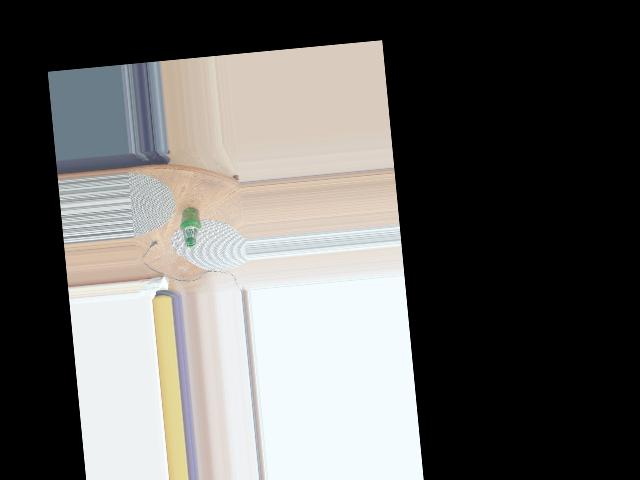beer: (179, 206, 203, 248)
